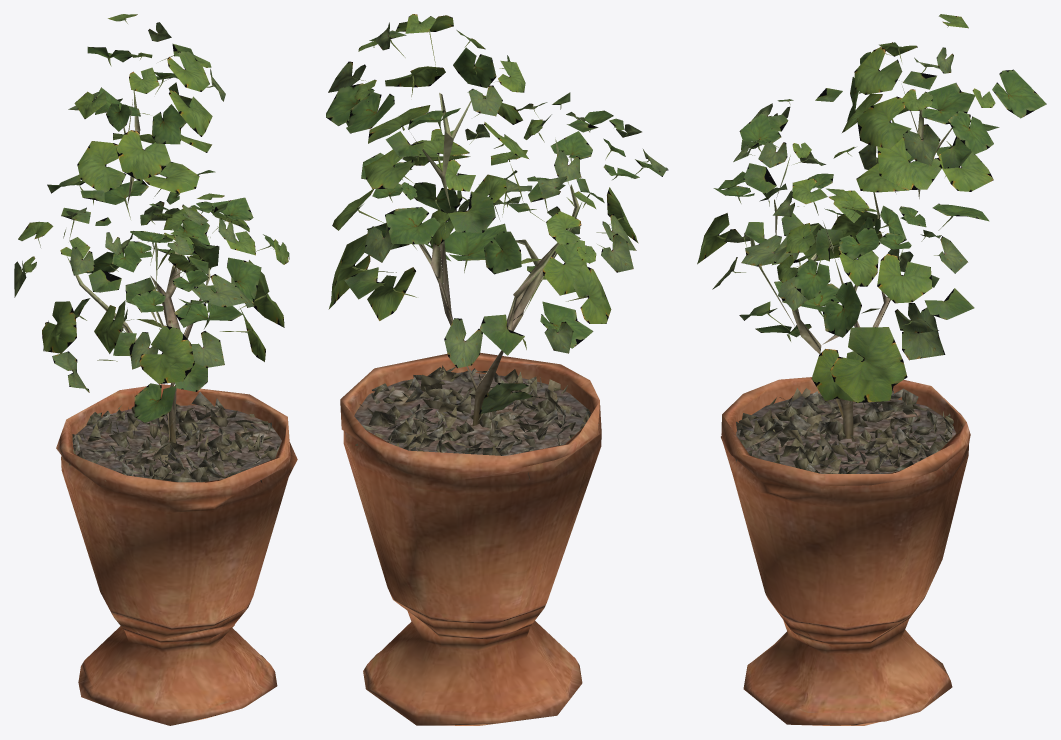
File: potted_plant_01.glb
3 views of the same model, side by side, from view 1: azimuth 30°, elevation 25°; view 2: azimuth 150°, elevation 25°; view 3: azimuth 270°, elevation 25° (orthographic). The views are drawn at different scales.
Visible parts, largest first — view 1: potted_plant_01_stem, potted_plant_01_leaves; view 2: potted_plant_01_stem, potted_plant_01_leaves; view 3: potted_plant_01_stem, potted_plant_01_leaves.
Boxes of the visible parts, x1,y1,x2,y2 form: potted_plant_01_stem: [56, 90, 297, 725]; potted_plant_01_leaves: [14, 14, 289, 422]; potted_plant_01_stem: [340, 93, 601, 725]; potted_plant_01_leaves: [326, 14, 668, 414]; potted_plant_01_stem: [721, 86, 970, 725]; potted_plant_01_leaves: [697, 14, 1046, 402].
Bounding box in the file's own units: 0.5866 × 1.33 × 0.6336.
Materials: 2 (2 with a texture image).
